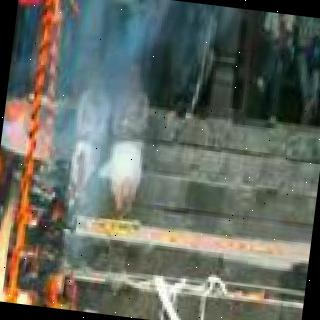fire: (0, 79, 37, 303)
